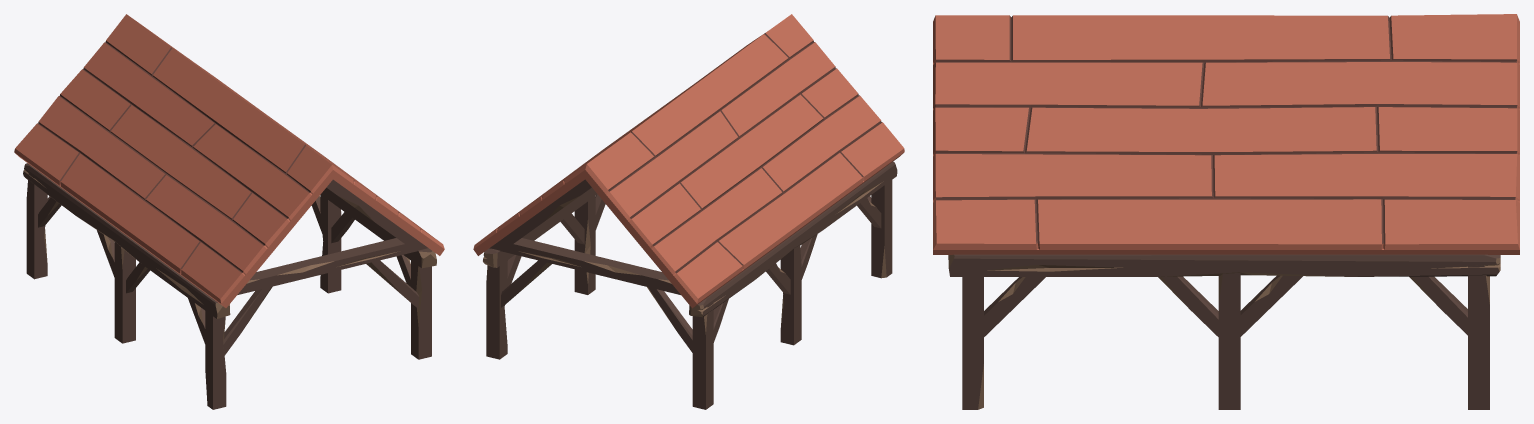
The model's file is Shed2.fbx.
The picture shows the model from 3 angles, left to right: view 1: azimuth 30°, elevation 25°; view 2: azimuth 150°, elevation 25°; view 3: azimuth 270°, elevation 25°; orthographic projection. The views are drawn at different scales.
Visible parts, largest first — view 1: Shed2; view 2: Shed2; view 3: Shed2.
Part boxes in pixels (left/top/right/bottom): Shed2: left=14, top=14, right=444, bottom=409; Shed2: left=473, top=14, right=904, bottom=409; Shed2: left=933, top=14, right=1519, bottom=409.
Size of the model in its own units: 123 by 119 by 197.
